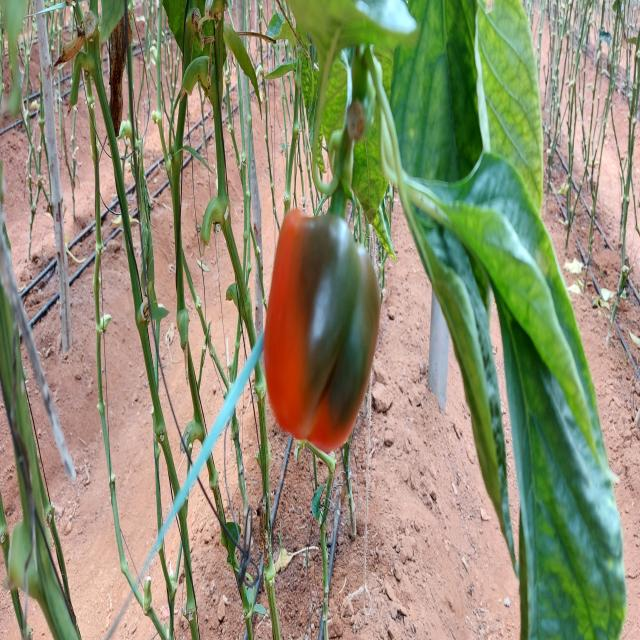BrownishRed--Can-be-Harvested: (266, 201, 380, 459)
